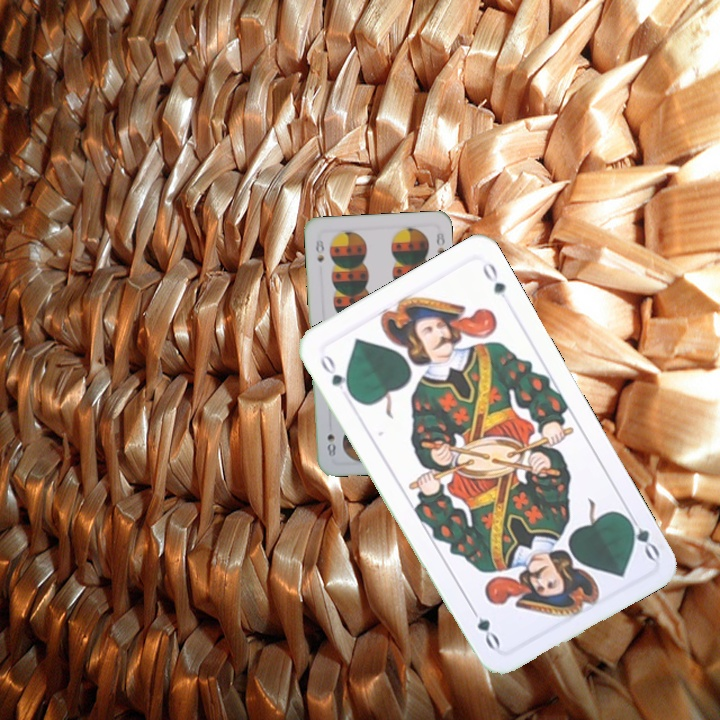GO: (620, 507, 663, 563), (316, 350, 356, 400)
S8: (312, 235, 327, 264)
